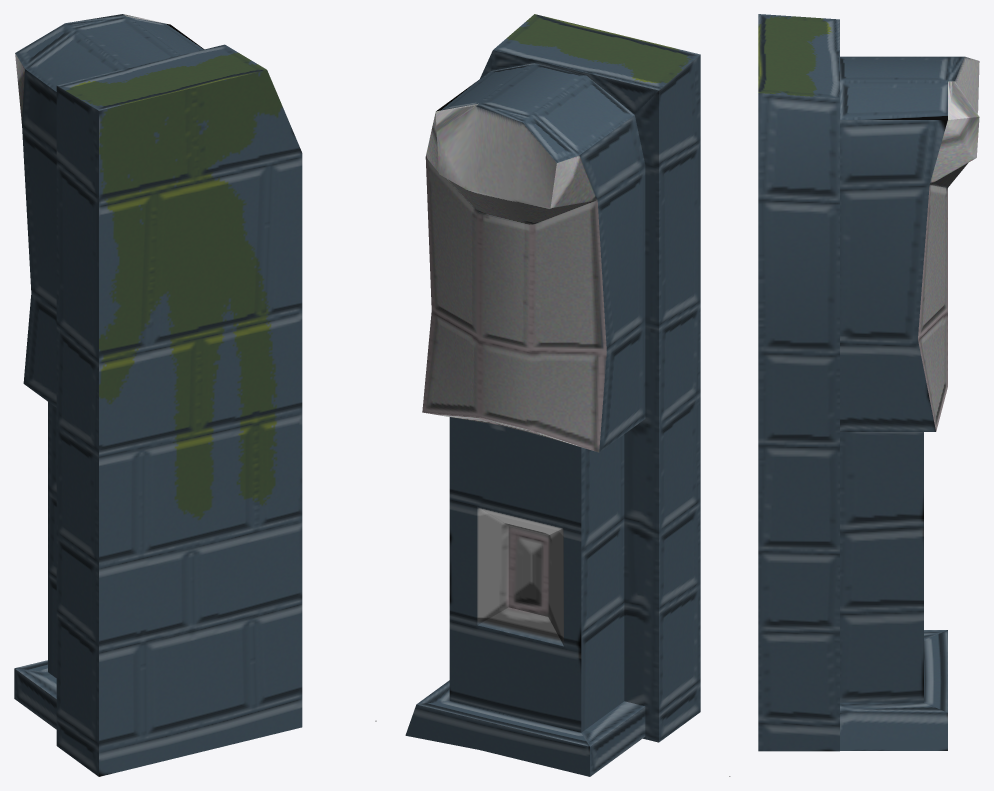
File: Debris.fbx
3 renders of one model, left to right at view 1: azimuth 30°, elevation 25°; view 2: azimuth 150°, elevation 25°; view 3: azimuth 270°, elevation 25°, orthographic. The views are drawn at different scales.
Visible parts, largest first — view 1: pCube1; view 2: pCube1; view 3: pCube1.
Boxes of the visible parts, x1,y1,x2,y2 form: pCube1: (14, 14, 302, 776); pCube1: (405, 14, 700, 776); pCube1: (758, 14, 979, 751).
Bounding box in the file's own units: 343 × 832 × 293.
